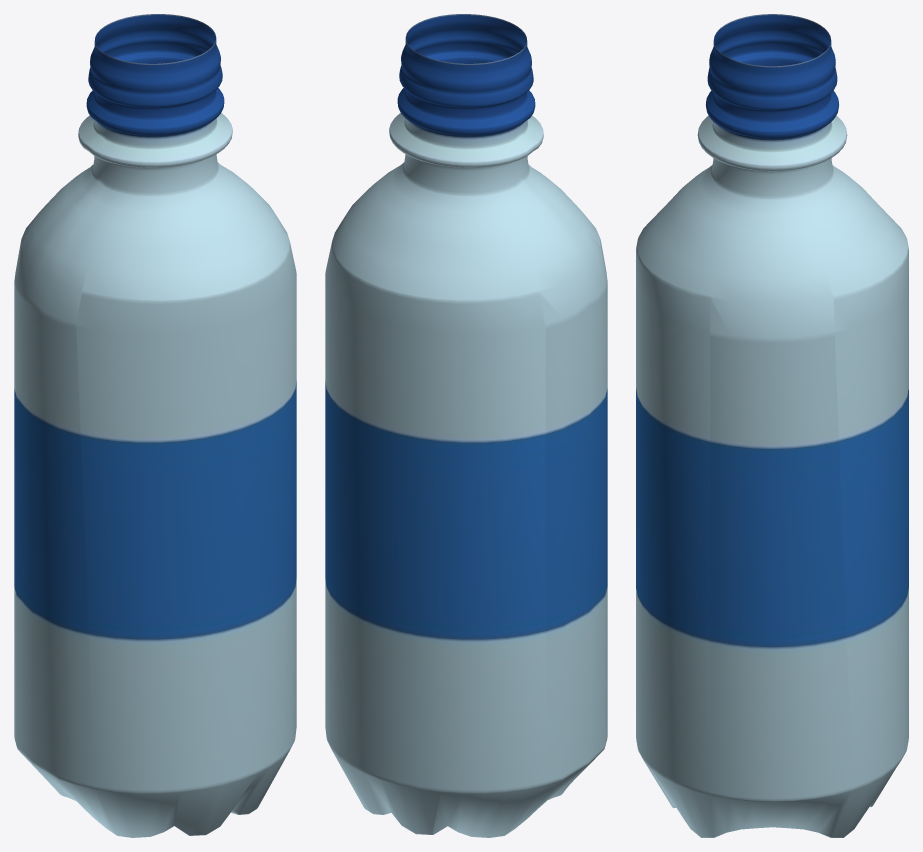
The model's file is botella.fbx.
3 renders of one model, left to right at view 1: azimuth 30°, elevation 25°; view 2: azimuth 150°, elevation 25°; view 3: azimuth 270°, elevation 25°, orthographic.
Parts seen in each view (by area): view 1: botella; view 2: botella; view 3: botella.
Part boxes in pixels (x1=…): botella: x1=14, y1=14, x2=296, y2=837; botella: x1=325, y1=14, x2=607, y2=837; botella: x1=636, y1=14, x2=908, y2=837.
Size of the model in its own units: 0.1088 by 0.32 by 0.1034.
Materials: 1 (1 with a texture image).
